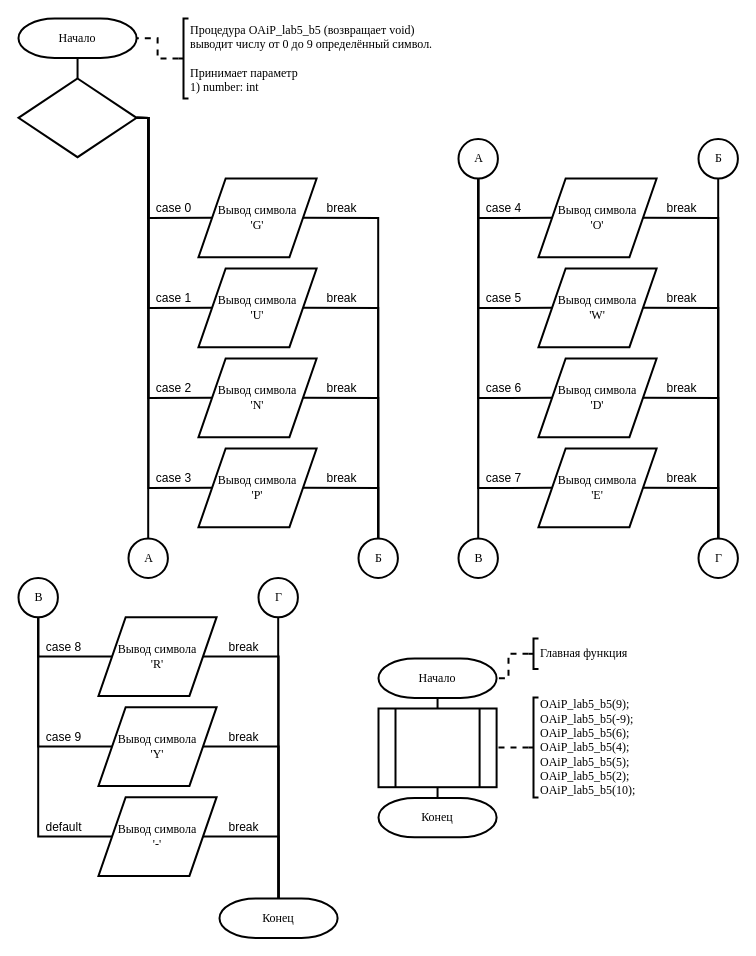
Some shapes in this 756 by 956 pixel diagram are drawn without their labels. The shapes that lost their labels are listed below. From the top down, each one's box as (x1, y1, x2, y2) in pixels, then its label:
(17, 77, 137, 158): number
(377, 707, 497, 788): Вызов процедур
